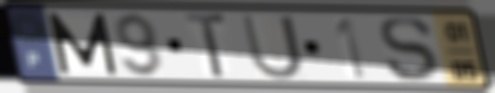1: (333, 17, 367, 80)
9: (112, 11, 166, 79)
M: (44, 10, 121, 76)
S: (376, 15, 440, 84)
T: (182, 11, 230, 81)
U: (238, 12, 307, 82)
